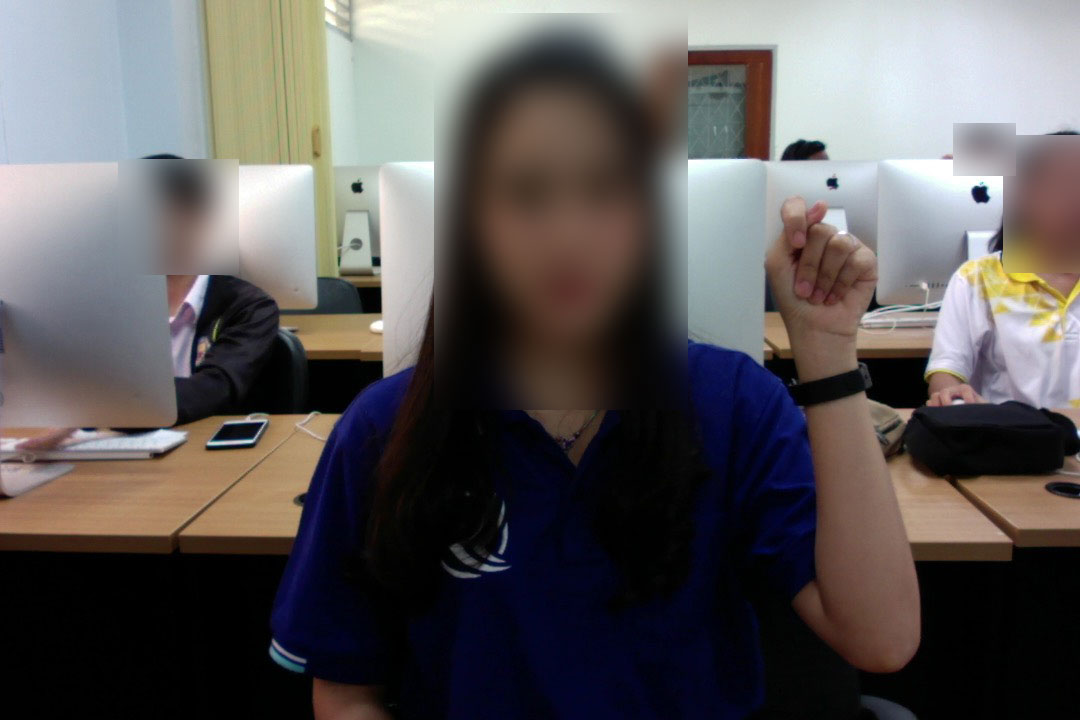tor: (754, 190, 883, 363)
